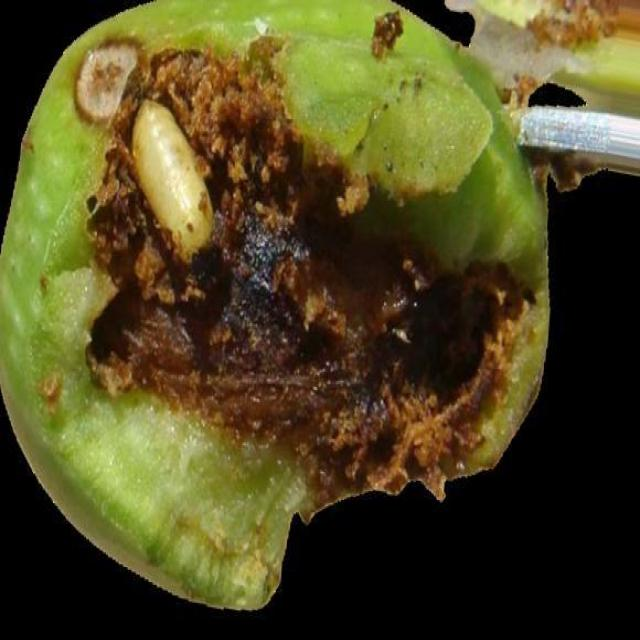Olive Fruit Fly: (0, 0, 547, 607)
